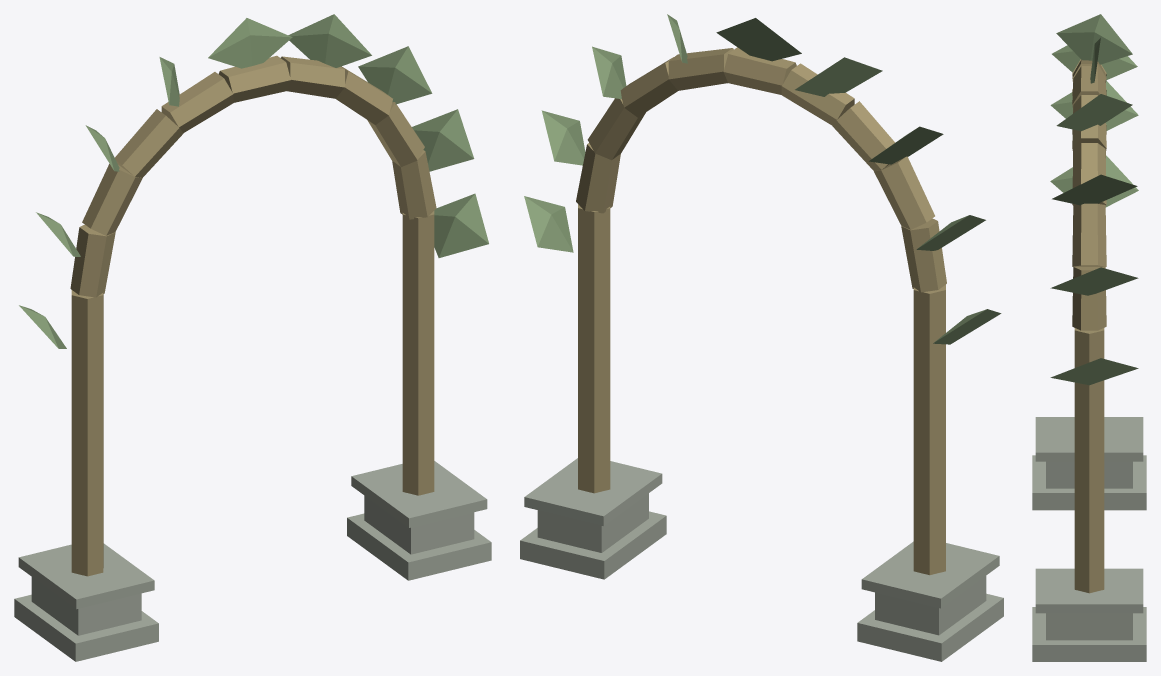
File: map-exclusive-v3__champion_02.glb
3 views of the same model, side by side, from view 1: azimuth 30°, elevation 25°; view 2: azimuth 150°, elevation 25°; view 3: azimuth 270°, elevation 25° (orthographic). The views are drawn at different scales.
Parts seen in each view (by area): view 1: champion_02; view 2: champion_02; view 3: champion_02.
Part boxes in pixels (x1,y1,x2,y2): champion_02: [14, 14, 491, 661]; champion_02: [520, 14, 1003, 661]; champion_02: [1032, 14, 1146, 661].
Size of the model in its own units: 2.58 by 3.06 by 0.5999.
